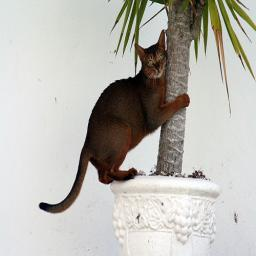catnose: (155, 64, 161, 72)
